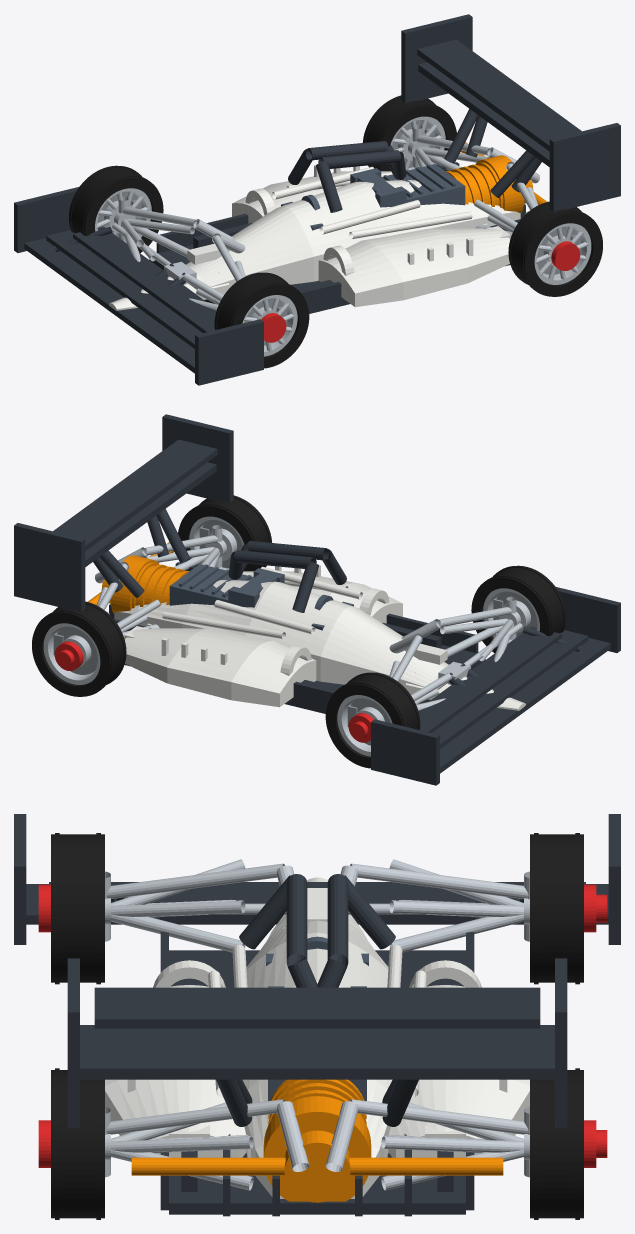
File: FORMULA_EV_DETAILED_VIEWER.glb
The picture shows the model from 3 angles, top to bottom: view 1: azimuth 30°, elevation 25°; view 2: azimuth 150°, elevation 25°; view 3: azimuth 270°, elevation 25°; orthographic projection. The views are drawn at different scales.
Visible parts, largest first — view 1: Rear wing, Front wing, Sidepods, Carbon monocoque, Front suspension, Rear left slick tire, Front left slick tire, Halo, Front right slick tire, Ground effect floor, Rear suspension, Rear motor (+10 smaller); view 2: Rear wing, Front wing, Sidepods, Carbon monocoque, Front suspension, Rear right slick tire, Front right slick tire, Halo, Front left slick tire, Ground effect floor, Rear suspension, Rear motor (+13 smaller); view 3: Rear wing, Front suspension, Rear suspension, Rear motor, Sidepods, Ground effect floor, Front wing, Carbon monocoque, Front left slick tire, Front right slick tire, Halo, Rear left slick tire (+5 smaller).
Boxes of the visible parts, x1=… form: Rear wing: x1=401, y1=14, x2=620, y2=211; Front wing: x1=14, y1=187, x2=263, y2=385; Sidepods: x1=232, y1=165, x2=510, y2=307; Carbon monocoque: x1=186, y1=166, x2=520, y2=287; Front suspension: x1=112, y1=196, x2=245, y2=310; Rear left slick tire: x1=508, y1=201, x2=602, y2=296; Front left slick tire: x1=214, y1=272, x2=309, y2=368; Halo: x1=288, y1=141, x2=406, y2=212; Front right slick tire: x1=69, y1=165, x2=163, y2=253; Ground effect floor: x1=149, y1=162, x2=525, y2=313; Rear suspension: x1=408, y1=125, x2=539, y2=237; Rear motor: x1=445, y1=142, x2=547, y2=213; Rear wing: x1=14, y1=414, x2=233, y2=611; Front wing: x1=371, y1=587, x2=620, y2=785; Sidepods: x1=124, y1=565, x2=402, y2=707; Carbon monocoque: x1=114, y1=566, x2=448, y2=687; Front suspension: x1=389, y1=596, x2=522, y2=710; Rear right slick tire: x1=32, y1=601, x2=126, y2=696; Front right slick tire: x1=325, y1=672, x2=420, y2=768; Halo: x1=228, y1=541, x2=346, y2=612; Front left slick tire: x1=471, y1=565, x2=565, y2=653; Ground effect floor: x1=109, y1=562, x2=485, y2=713; Rear suspension: x1=95, y1=525, x2=226, y2=637; Rear motor: x1=87, y1=542, x2=189, y2=613; Rear wing: x1=67, y1=958, x2=567, y2=1128; Front suspension: x1=105, y1=859, x2=529, y2=952; Rear suspension: x1=105, y1=1099, x2=529, y2=1190; Rear motor: x1=131, y1=1079, x2=503, y2=1202; Sidepods: x1=105, y1=960, x2=529, y2=1157; Ground effect floor: x1=160, y1=932, x2=474, y2=1216; Front wing: x1=14, y1=814, x2=620, y2=944; Carbon monocoque: x1=232, y1=888, x2=402, y2=1198; Front left slick tire: x1=51, y1=833, x2=104, y2=984; Front right slick tire: x1=530, y1=833, x2=583, y2=984; Halo: x1=239, y1=874, x2=395, y2=987; Rear left slick tire: x1=51, y1=1068, x2=104, y2=1219.
Bounding box in the file's own units: 202 × 66.85 × 147.
